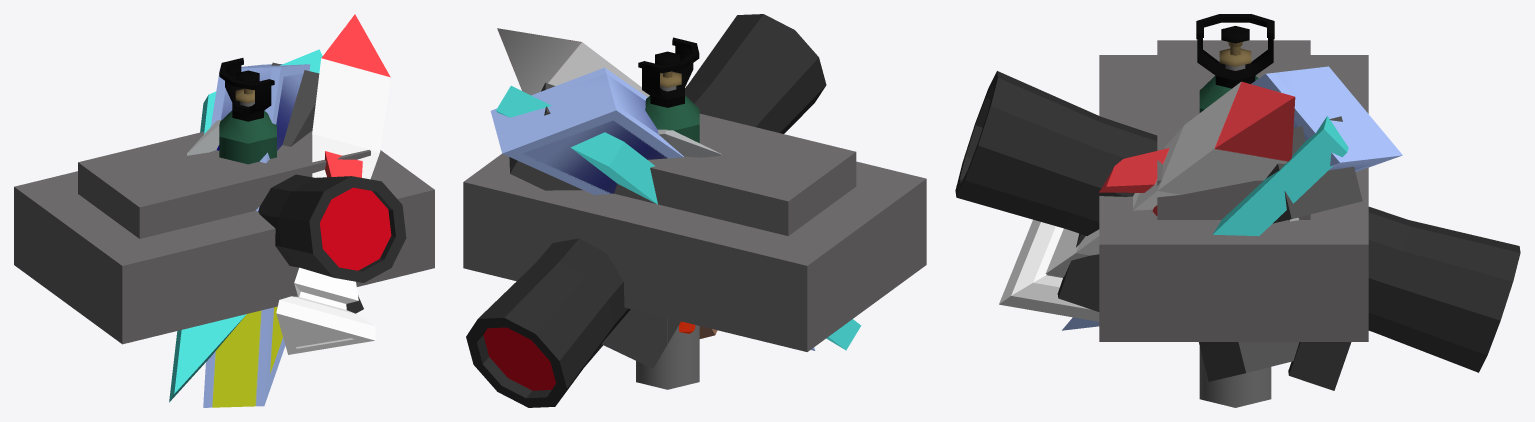
The model's file is item_icon_perspective.glb.
3 renders of one model, left to right at view 1: azimuth 30°, elevation 25°; view 2: azimuth 150°, elevation 25°; view 3: azimuth 270°, elevation 25°, orthographic. The views are drawn at different scales.
Visible parts, largest first — view 1: Cube.001, Rocket, Cylinder, LightingBolt, Circle, Cube.002, Cube, PickAxe.001; view 2: Cube.001, Cylinder, LightingBolt, Circle, Rocket, Cube.002, Cube, PickAxe.001; view 3: Cube.001, Cylinder, Rocket, LightingBolt, Circle, Cube, Cube.002.
Boxes of the visible parts, bbox=[...] form: Cube.001: bbox=[14, 130, 434, 344]; Rocket: bbox=[276, 14, 390, 354]; Cylinder: bbox=[258, 174, 406, 313]; LightingBolt: bbox=[203, 64, 310, 407]; Circle: bbox=[219, 58, 276, 164]; Cube.002: bbox=[169, 49, 322, 402]; Cube: bbox=[271, 62, 319, 146]; PickAxe.001: bbox=[186, 119, 221, 155]; Cube.001: bbox=[463, 113, 926, 351]; Cylinder: bbox=[466, 14, 826, 407]; LightingBolt: bbox=[490, 67, 815, 350]; Circle: bbox=[636, 37, 699, 389]; Rocket: bbox=[497, 28, 649, 97]; Cube.002: bbox=[496, 85, 861, 350]; Cube: bbox=[509, 82, 680, 368]; PickAxe.001: bbox=[657, 129, 721, 338]; Cube.001: bbox=[1099, 40, 1368, 341]; Cylinder: bbox=[955, 71, 1520, 390]; Rocket: bbox=[999, 81, 1295, 321]; LightingBolt: bbox=[1062, 66, 1402, 330]; Circle: bbox=[1196, 14, 1274, 407]; Cube: bbox=[1199, 116, 1362, 381]; Cube.002: bbox=[1213, 116, 1348, 236].
Bounding box in the file's own units: 1.29 × 1.18 × 1.62.
Materials: 11 (7 with a texture image).
